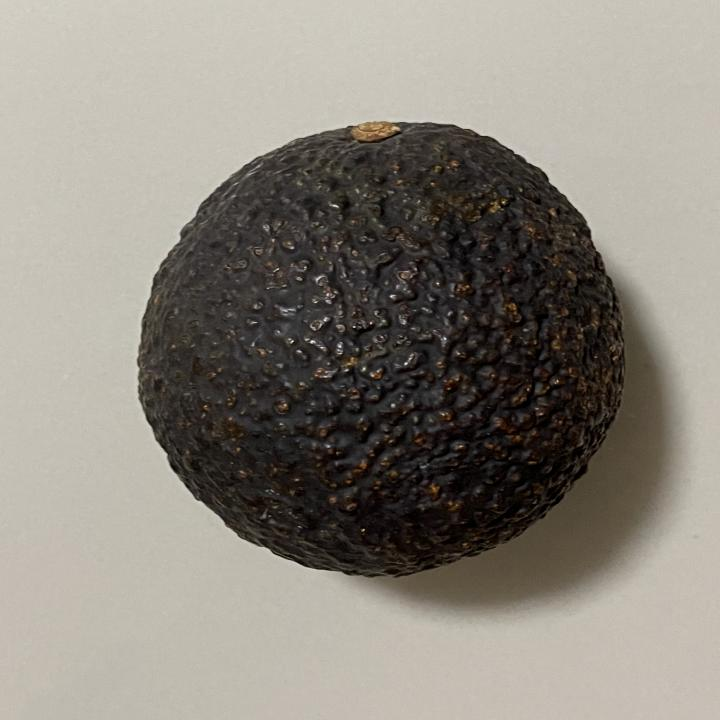Level2: (129, 112, 634, 584)
